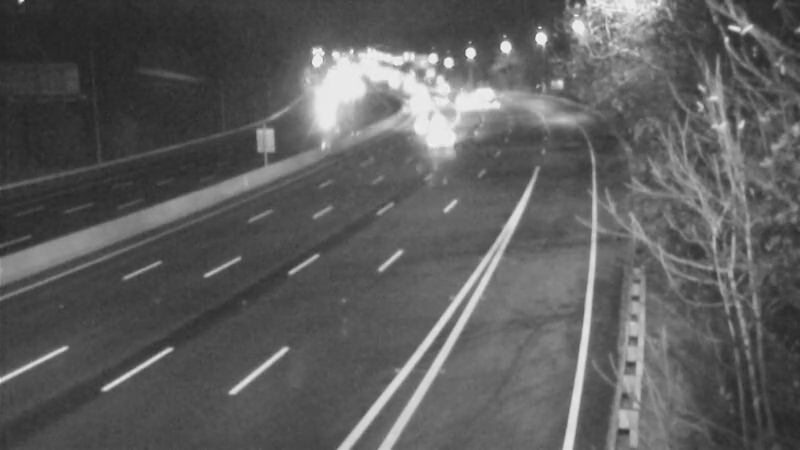vehicle: (396, 95, 446, 145), (418, 115, 468, 165), (303, 84, 353, 134)
